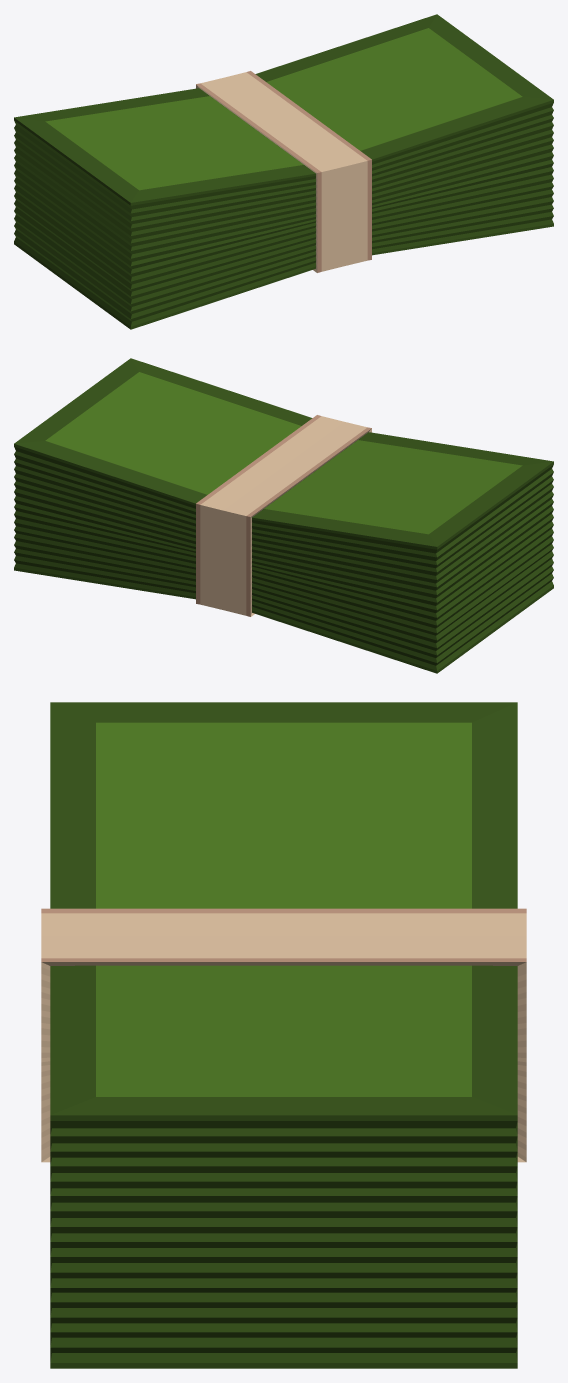
File: money.fbx
3 renders of one model, top to bottom at view 1: azimuth 30°, elevation 25°; view 2: azimuth 150°, elevation 25°; view 3: azimuth 270°, elevation 25°, orthographic. The views are drawn at different scales.
Parts seen in each view (by area): view 1: Money; view 2: Money; view 3: Money.
Part boxes in pixels (<box>): Money: <box>14,14,553,329</box>; Money: <box>14,358,553,673</box>; Money: <box>41,702,526,1368</box>.
Bounding box in the file's own units: 200 × 57.27 × 99.32.
